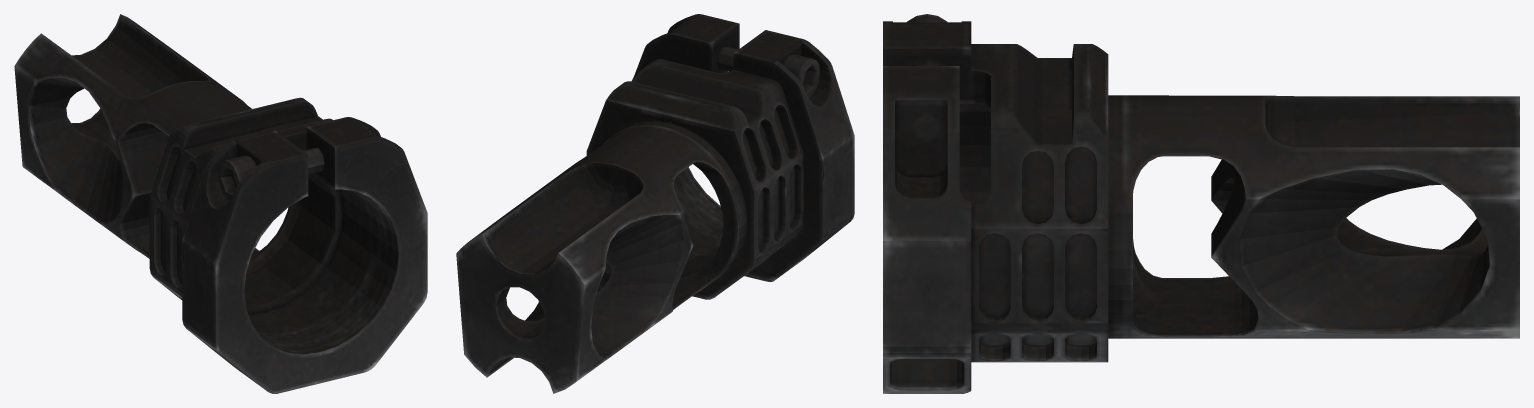
3 views of the same model, side by side, from view 1: azimuth 30°, elevation 25°; view 2: azimuth 150°, elevation 25°; view 3: azimuth 270°, elevation 25° (orthographic). The views are drawn at different scales.
Visible parts, largest first — view 1: TW_615d8f5dd92c473c770212ef_PZ_Import; view 2: TW_615d8f5dd92c473c770212ef_PZ_Import; view 3: TW_615d8f5dd92c473c770212ef_PZ_Import.
Part boxes in pixels (bbox=[...]): TW_615d8f5dd92c473c770212ef_PZ_Import: bbox=[14, 14, 427, 393]; TW_615d8f5dd92c473c770212ef_PZ_Import: bbox=[456, 14, 854, 393]; TW_615d8f5dd92c473c770212ef_PZ_Import: bbox=[883, 14, 1519, 393].
Bounding box in the file's own units: 0.0191 × 0.0376 × 0.0199.
Materials: 1 (1 with a texture image).
